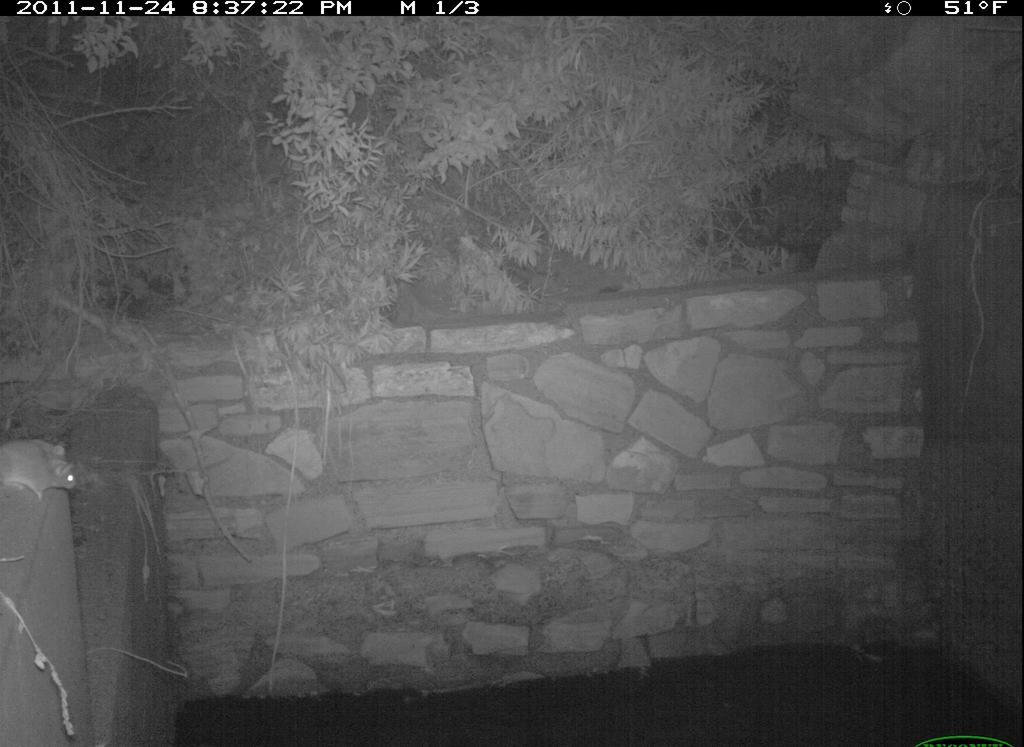rodent: (3, 433, 86, 507)
